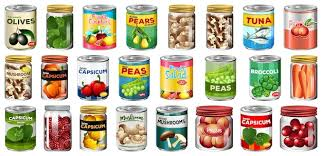can: (3, 2, 322, 156)
